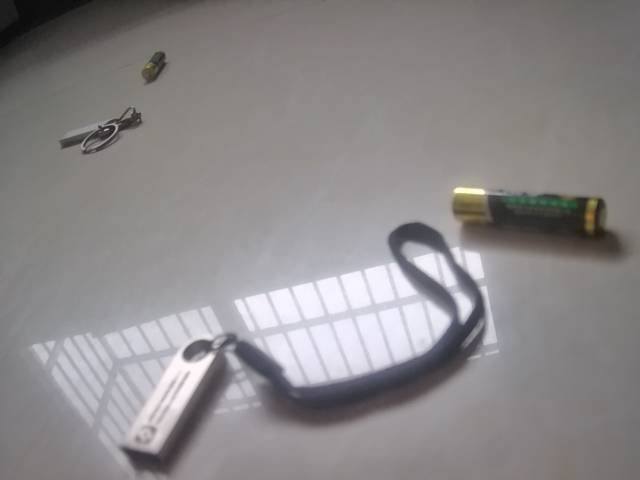U-disk: (120, 328, 333, 475), (56, 110, 152, 154)
battery: (442, 181, 614, 244), (136, 45, 172, 89)
